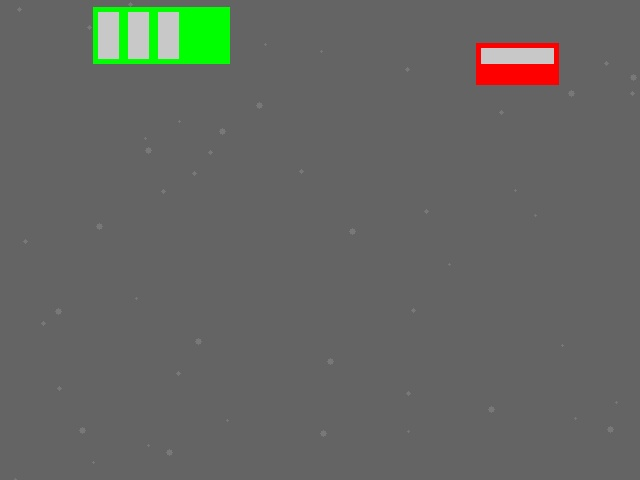bus: (93, 7, 229, 63)
car: (476, 43, 558, 84)
